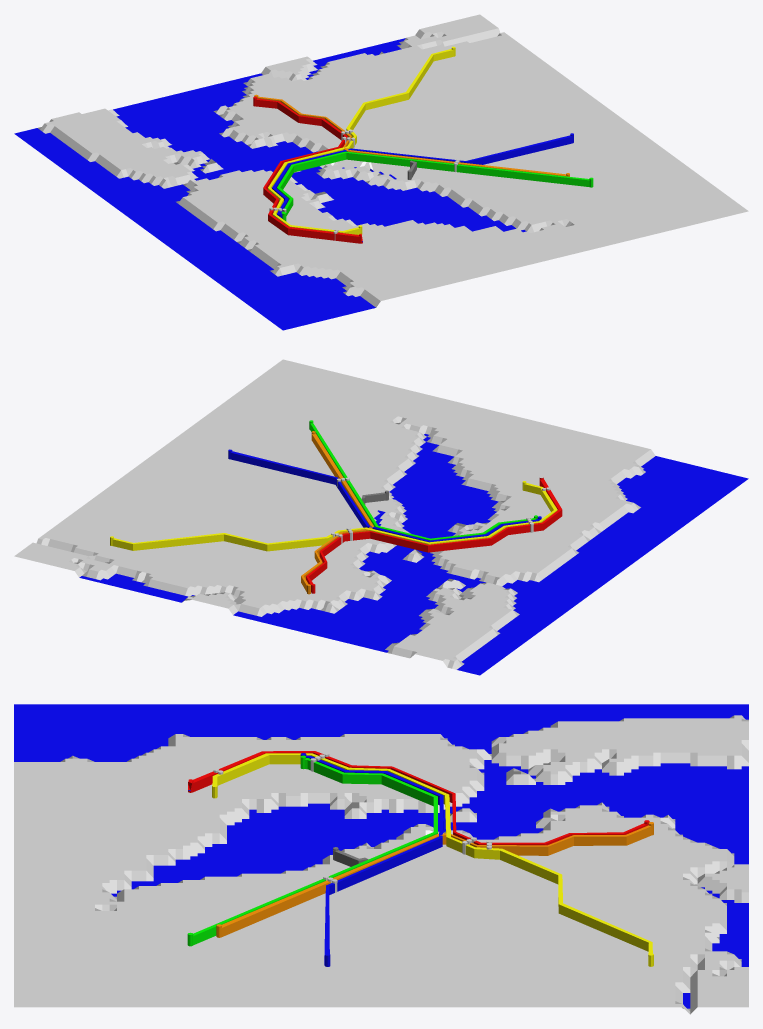
Rendered from map_color_2.obj.
The picture shows the model from 3 angles, top to bottom: view 1: azimuth 30°, elevation 25°; view 2: azimuth 150°, elevation 25°; view 3: azimuth 270°, elevation 25°; orthographic projection. The views are drawn at different scales.
Parts seen in each view (by area): view 1: land map_grp polySurface2 terrain polySurface1, map_grp polySurface2 terrain water polySurface1, map_grp non_integer polySurface2 terrain polySurface1, map_grp polySurface2 route tracks polySurface1; view 2: land map_grp polySurface2 terrain polySurface1, map_grp polySurface2 terrain water polySurface1, map_grp non_integer polySurface2 terrain polySurface1, map_grp polySurface2 route tracks polySurface1; view 3: land map_grp polySurface2 terrain polySurface1, map_grp polySurface2 terrain water polySurface1, map_grp non_integer polySurface2 terrain polySurface1, map_grp polySurface2 route tracks polySurface1.
Boxes of the visible parts, x1,y1,x2,y2 form: land map_grp polySurface2 terrain polySurface1: (45,14,748,300); map_grp polySurface2 terrain water polySurface1: (14,38,526,330); map_grp non_integer polySurface2 terrain polySurface1: (38,28,574,307); map_grp polySurface2 route tracks polySurface1: (255,49,589,243); land map_grp polySurface2 terrain polySurface1: (14,359,650,660); map_grp polySurface2 terrain water polySurface1: (79,434,748,675); map_grp non_integer polySurface2 terrain polySurface1: (36,416,655,669); map_grp polySurface2 route tracks polySurface1: (112,423,562,591); land map_grp polySurface2 terrain polySurface1: (14,715,748,1007); map_grp polySurface2 terrain water polySurface1: (14,704,748,1008); map_grp non_integer polySurface2 terrain polySurface1: (60,715,748,1014); map_grp polySurface2 route tracks polySurface1: (188,751,652,965).
Size of the model in its own units: 12.56 by 0.5333 by 12.56.
